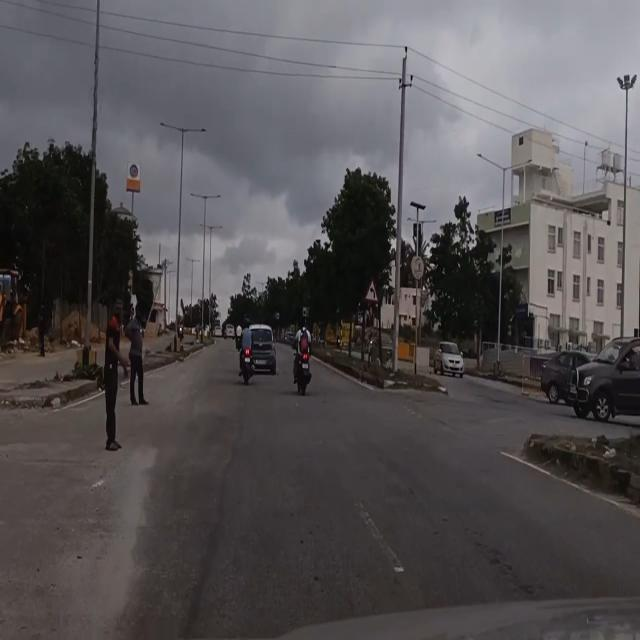bien_cam: (364, 276, 378, 303)
